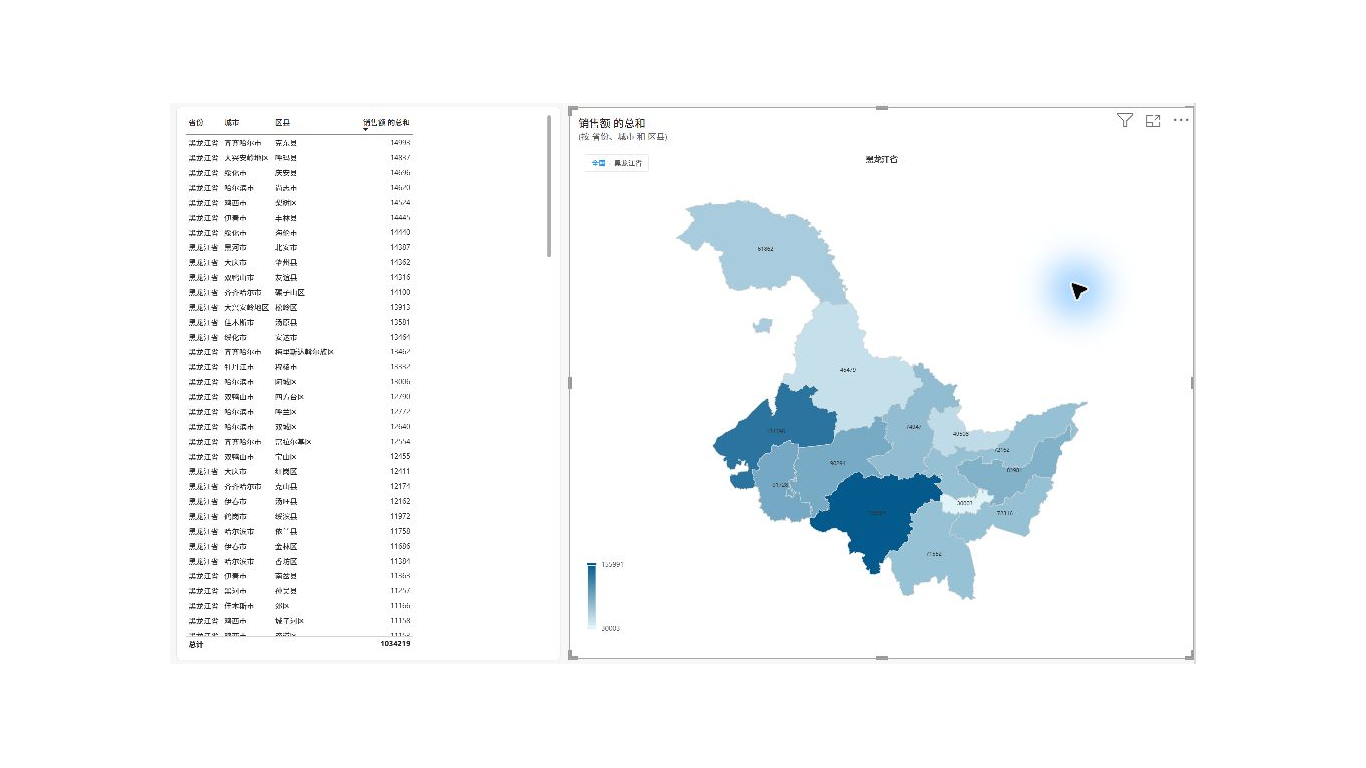

The dashboard page shown, as its layout file describes it:
{"tool":"powerbi","page":{"name":"第 3 页","canvas":[1920,1080],"ordinal":0},"visuals":[{"type":"chinaMapDrilldownV2F4A1C8D973E64B5AA27D1E6C80B42951","fields":{"province":["地图测试数据.省份"],"measure":["Sum(地图测试数据.销售额)"],"city":["地图测试数据.城市"],"district":["地图测试数据.区县"]},"box":[748,29.8,1172,1035.6],"z":1},{"type":"tableEx","fields":{"Values":["地图测试数据.省份","地图测试数据.城市","地图测试数据.区县","Sum(地图测试数据.销售额)"]},"box":[10.7,29.8,720.3,1037.8],"z":2}]}

Visuals, with their boxes in screenshot pixels (x1, y1, x2, y2), scaled from the page's 1920x1080 canvas onto the 1366x768 screenshot:
chinaMapDrilldownV2F4A1C8D973E64B5AA27D1E6C80B42951 - 地图测试数据.省份 x Sum(地图测试数据.销售额): crop(532, 21, 1365, 758)
tableEx - 地图测试数据.省份 x 地图测试数据.城市: crop(8, 21, 520, 759)
